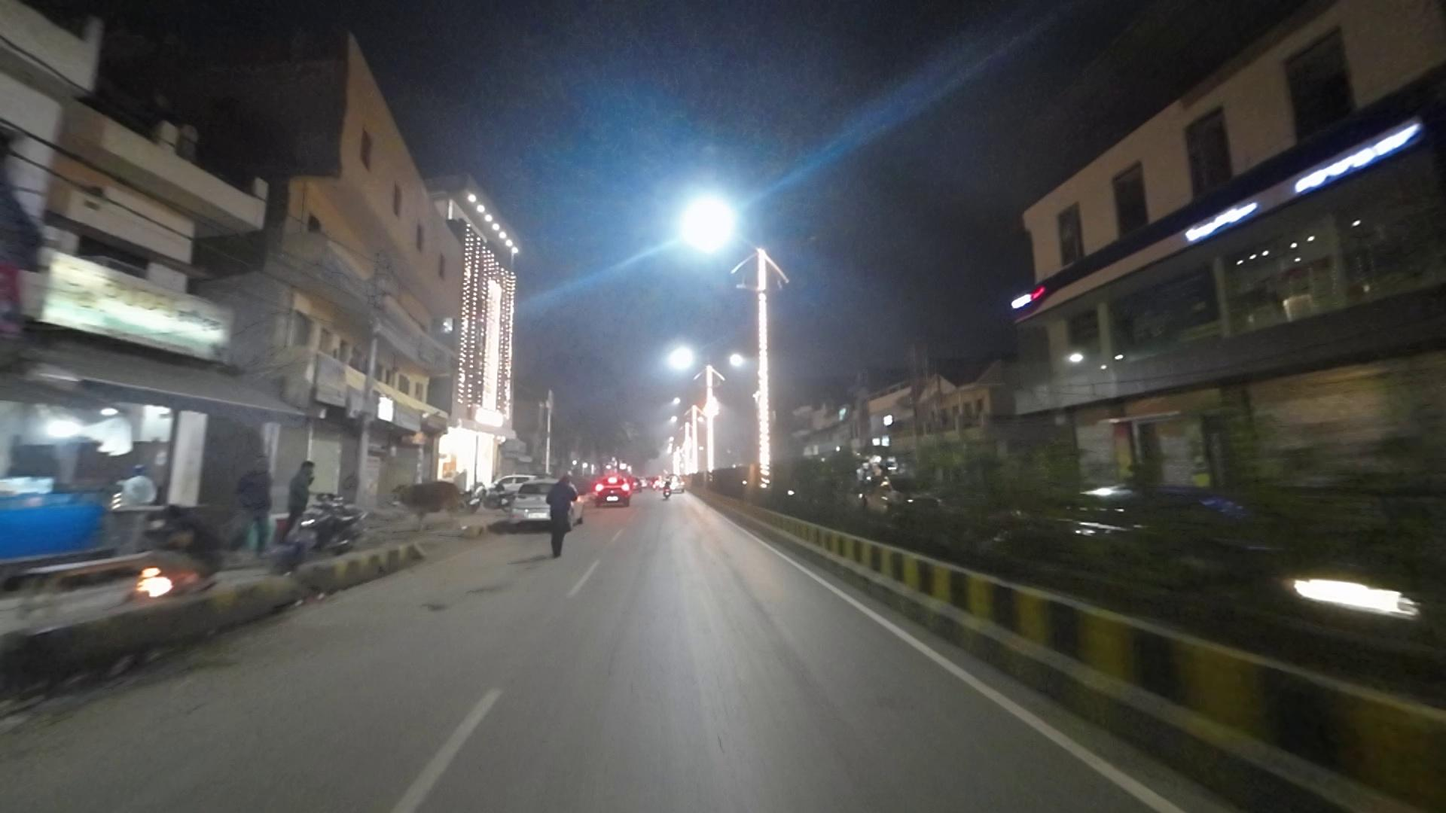streetlight: (766, 233, 820, 251)
